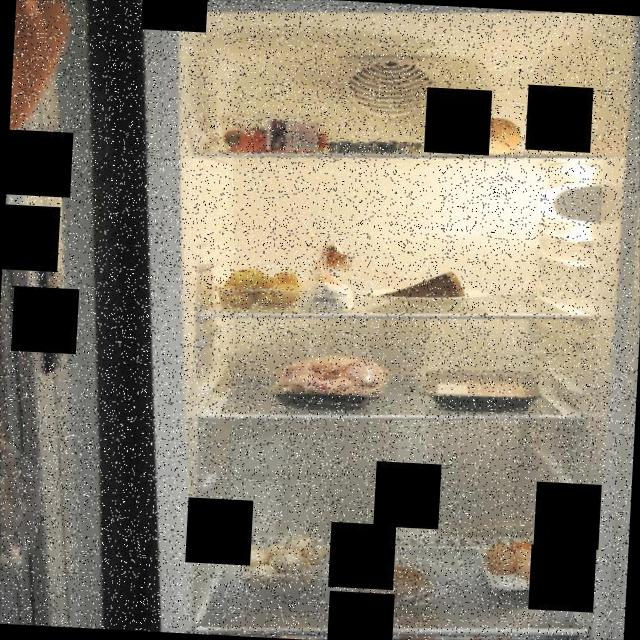Carne pollo: (274, 349, 390, 413), (428, 372, 536, 416)
Champiñones: (234, 530, 338, 594)
Gambas/Langostinos: (348, 556, 442, 612)
Huevos: (481, 537, 551, 587)
Patata: (209, 265, 304, 317)
Queso: (380, 266, 470, 306)
blueberries: (327, 132, 428, 160)
flour: (292, 236, 362, 317)
strawberries: (220, 116, 330, 160)
sweet_potato: (441, 112, 526, 160)
